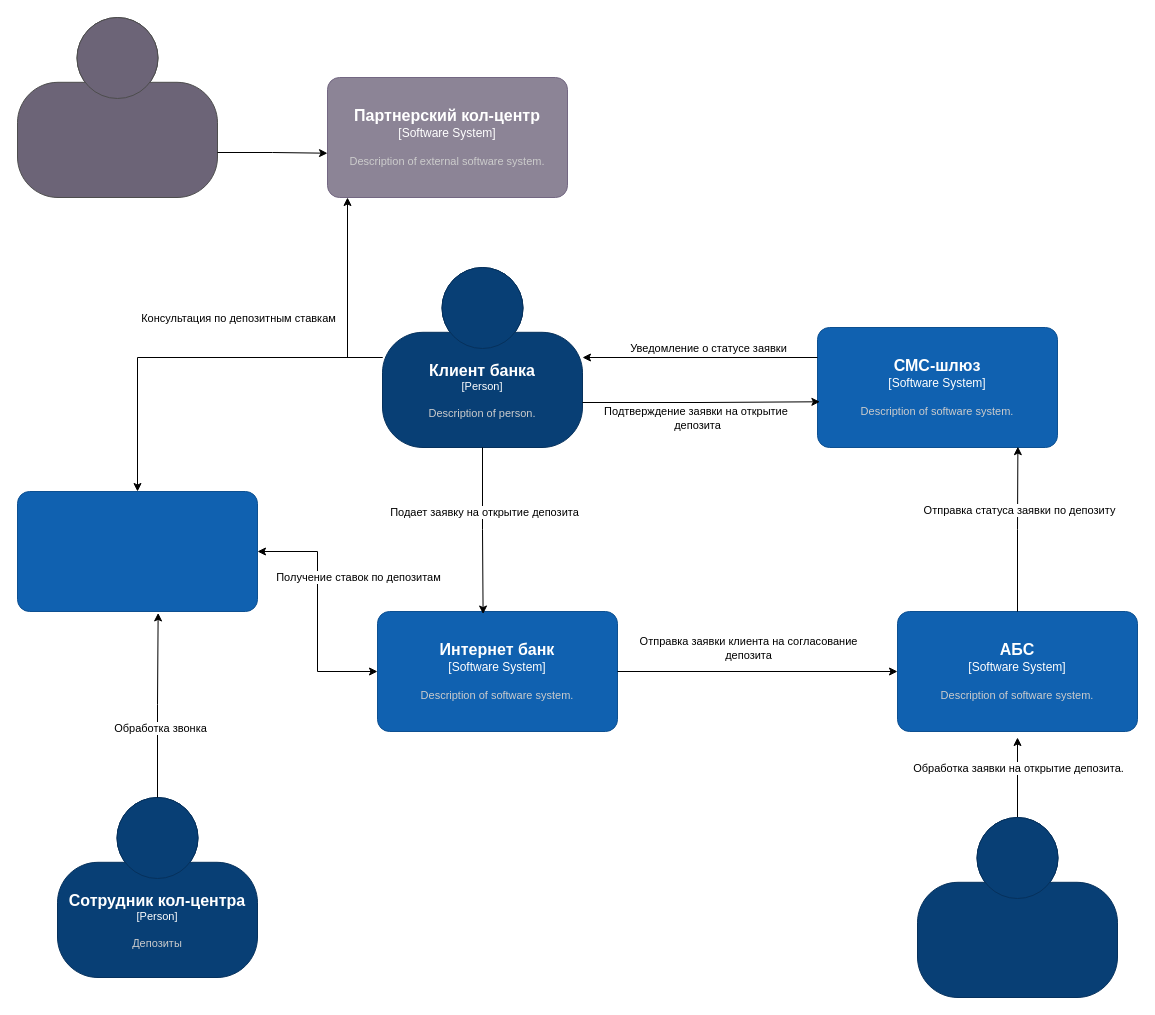
This 1155x1015 diagram has some shape labels left out. The shapes that lost their labels are listed below. From the top down, each one's box as (x1, y1, x2, y2) in pixels, then its label:
(16, 16, 218, 198): Сотрудник партнерского кол-центра [Person] Description of external person.
(16, 490, 258, 612): Кол-центр [Software System] Система внутреннего кол-центра
(916, 816, 1118, 998): Сотрудник бэк-офиса [Person] Депозиты
